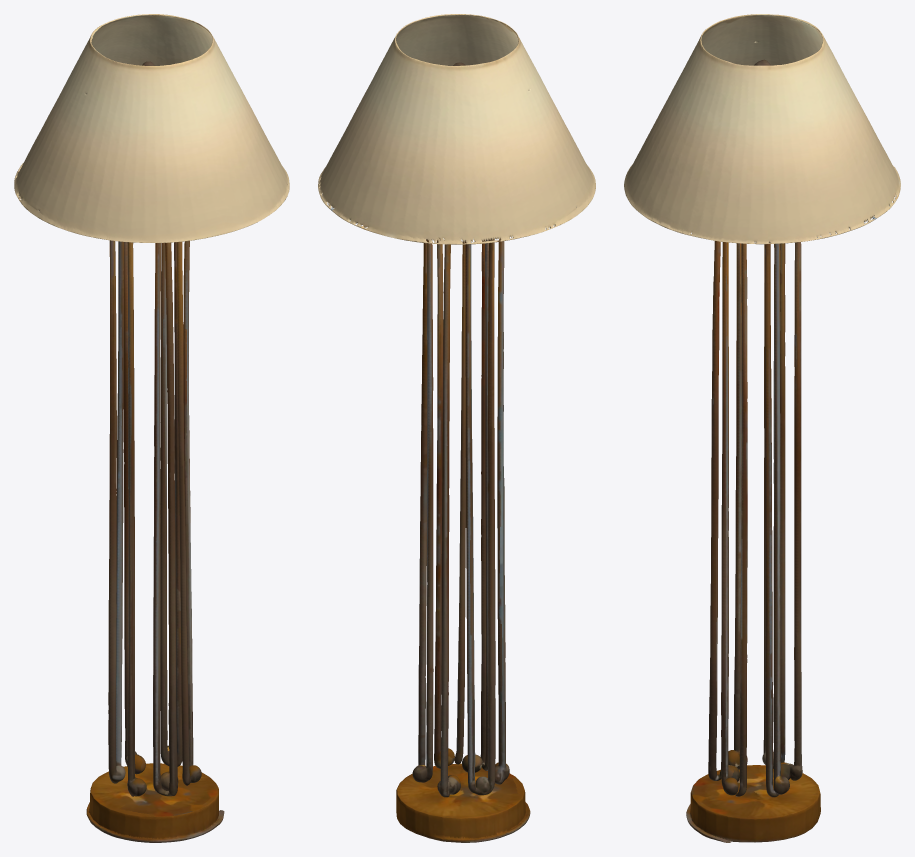
The picture shows the model from 3 angles, left to right: view 1: azimuth 30°, elevation 25°; view 2: azimuth 150°, elevation 25°; view 3: azimuth 270°, elevation 25°; orthographic projection.
Parts seen in each view (by area): view 1: tripo_node_3a162952-72a4-4c10-8291-b752e0218d76; view 2: tripo_node_3a162952-72a4-4c10-8291-b752e0218d76; view 3: tripo_node_3a162952-72a4-4c10-8291-b752e0218d76.
Boxes of the visible parts, x1,y1,x2,y2 form: tripo_node_3a162952-72a4-4c10-8291-b752e0218d76: (14,14,289,842); tripo_node_3a162952-72a4-4c10-8291-b752e0218d76: (318,14,595,842); tripo_node_3a162952-72a4-4c10-8291-b752e0218d76: (624,14,900,842).
Size of the model in its own units: 0.3232 by 1 by 0.3225.
1 material, 1 textured.
